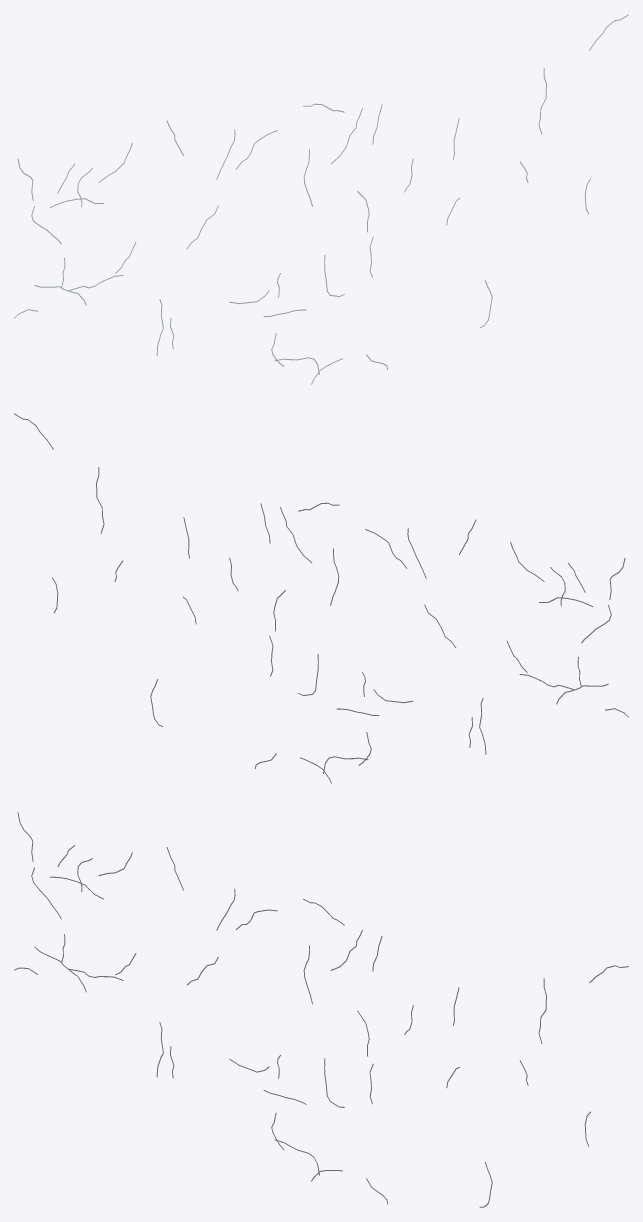
Rendered from 2051_PotionThrow_Overall_GroundPattern2.fbx.
3 views of the same model, one above another, from view 1: azimuth 30°, elevation 25°; view 2: azimuth 150°, elevation 25°; view 3: azimuth 330°, elevation 25° (orthographic).
Visible parts, largest first — view 1: PART_Pyro_ContinuousPattern2; view 2: PART_Pyro_ContinuousPattern2; view 3: PART_Pyro_ContinuousPattern2.
Part boxes in pixels (x1,y1,x2,y2): PART_Pyro_ContinuousPattern2: (14,14,628,384); PART_Pyro_ContinuousPattern2: (14,413,628,783); PART_Pyro_ContinuousPattern2: (14,812,628,1207).
Size of the model in its own units: 2006 by 946 by 0.000154.
